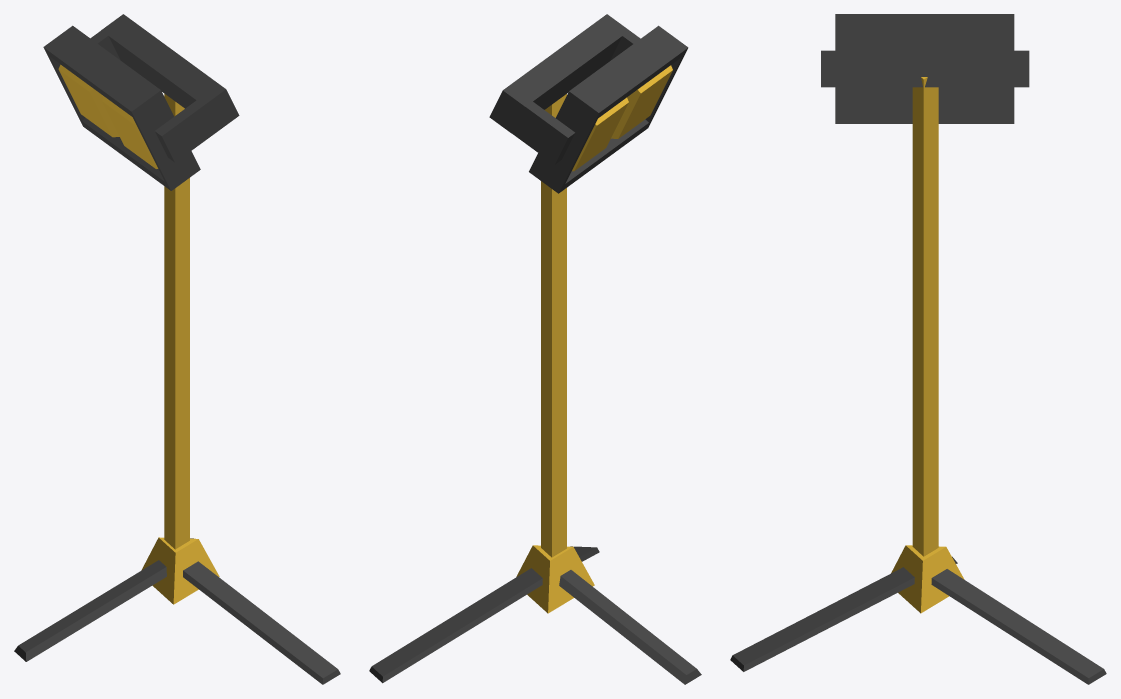
File: construction lights.fbx
The picture shows the model from 3 angles, left to right: view 1: azimuth 30°, elevation 25°; view 2: azimuth 150°, elevation 25°; view 3: azimuth 270°, elevation 25°; orthographic projection.
Visible parts, largest first — view 1: Cube.014, Cube.013; view 2: Cube.014, Cube.013; view 3: Cube.014, Cube.013.
Part boxes in pixels (<box>): Cube.014: <box>14,93,340,684</box>; Cube.013: <box>43,14,239,190</box>; Cube.014: <box>369,94,701,684</box>; Cube.013: <box>489,14,688,193</box>; Cube.014: <box>730,77,1106,684</box>; Cube.013: <box>821,14,1029,123</box>.
Size of the model in its own units: 618 by 1386 by 799.
